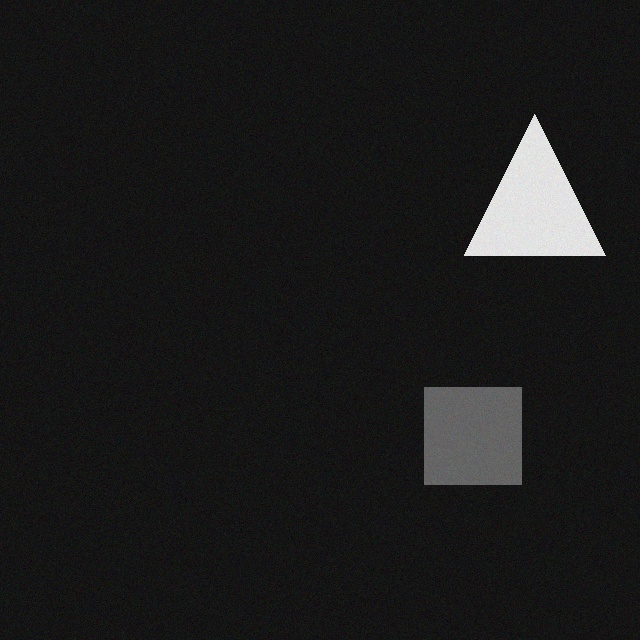square: (423, 397, 520, 494)
triangle: (463, 124, 604, 265)
